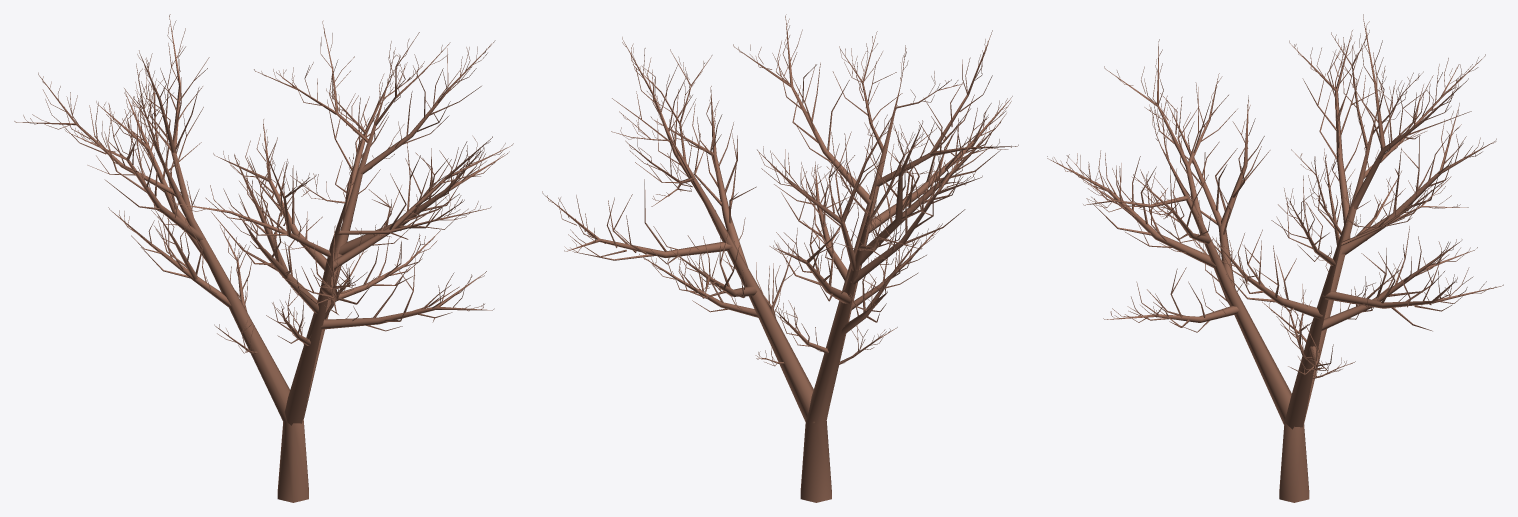
The model's file is prunier_hiver.glb.
The picture shows the model from 3 angles, left to right: view 1: azimuth 30°, elevation 25°; view 2: azimuth 150°, elevation 25°; view 3: azimuth 270°, elevation 25°; orthographic projection. The views are drawn at different scales.
Visible parts, largest first — view 1: Prunier_Tronc; view 2: Prunier_Tronc; view 3: Prunier_Tronc.
Boxes of the visible parts, <box> form: Prunier_Tronc: <box>14,14,513,502</box>; Prunier_Tronc: <box>542,14,1018,502</box>; Prunier_Tronc: <box>1047,14,1503,502</box>.
Size of the model in its own units: 3.5 by 3.78 by 3.66.
